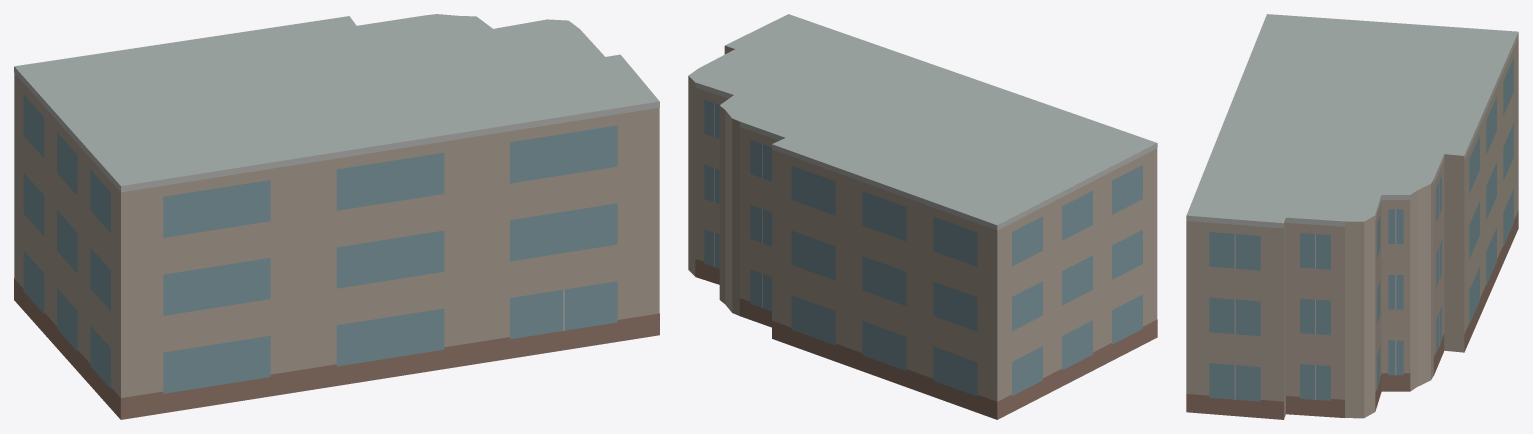
Rendered from survey-upis-32692220.glb.
3 views of the same model, side by side, from view 1: azimuth 30°, elevation 25°; view 2: azimuth 150°, elevation 25°; view 3: azimuth 270°, elevation 25° (orthographic). The views are drawn at different scales.
Visible parts, largest first — view 1: survey-upis-32692220.tmp; view 2: survey-upis-32692220.tmp; view 3: survey-upis-32692220.tmp.
Boxes of the visible parts, <box> form: survey-upis-32692220.tmp: <box>14,14,659,419</box>; survey-upis-32692220.tmp: <box>688,14,1157,419</box>; survey-upis-32692220.tmp: <box>1186,14,1518,419</box>.
Size of the model in its own units: 20.9 by 9.15 by 14.02.
